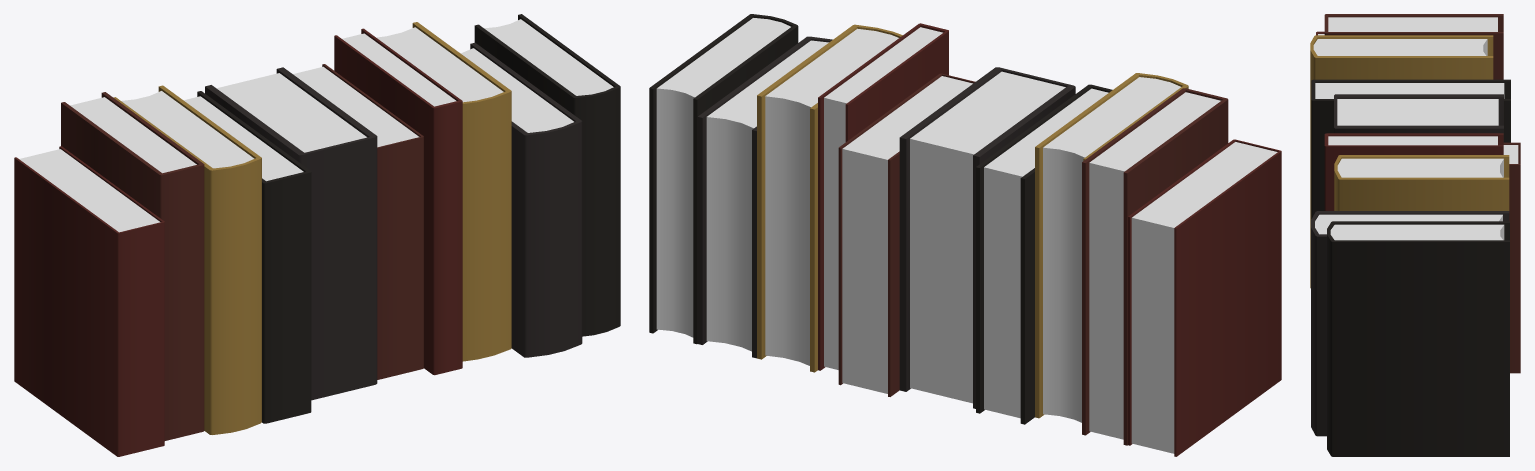
Rendered from 065_books_var1.glb.
The picture shows the model from 3 angles, left to right: view 1: azimuth 30°, elevation 25°; view 2: azimuth 150°, elevation 25°; view 3: azimuth 270°, elevation 25°; orthographic projection. The views are drawn at different scales.
Parts seen in each view (by area): view 1: Plane.001, Plane.011, Plane.003, Plane, Plane.002, Plane.005, Plane.007, Plane.006, Plane.004, Plane.009; view 2: Plane.001, Plane.011, Plane, Plane.005, Plane.009, Plane.006, Plane.003, Plane.004, Plane.002, Plane.007; view 3: Plane.006, Plane.005, Plane.003, Plane.011, Plane.002, Plane.004, Plane.007, Plane, Plane.009.
Boxes of the visible parts, box(x1,y1,x2,y2) form: Plane.001: box(14, 146, 164, 456); Plane.011: box(205, 67, 377, 400); Plane.003: box(113, 85, 261, 434); Plane: box(61, 92, 204, 440); Plane.002: box(461, 42, 582, 357); Plane.005: box(376, 22, 511, 361); Plane.007: box(334, 28, 462, 375); Plane.006: box(474, 14, 620, 336); Plane.004: box(184, 91, 311, 423); Plane.009: box(293, 64, 423, 379); Plane.001: box(1128, 139, 1281, 456); Plane.011: box(899, 67, 1075, 408); Plane: box(1082, 88, 1228, 445); Plane.005: box(757, 24, 902, 372); Plane.009: box(838, 73, 975, 396); Plane.006: box(649, 14, 798, 344); Plane.003: box(1035, 73, 1188, 422); Plane.004: box(976, 84, 1112, 424); Plane.002: box(697, 36, 832, 358); Plane.007: box(818, 23, 948, 370); Plane.006: box(1327, 221, 1509, 456); Plane.005: box(1334, 155, 1509, 210); Plane.003: box(1310, 35, 1493, 288); Plane.011: box(1334, 94, 1503, 142); Plane.002: box(1311, 211, 1509, 436); Plane.004: box(1311, 79, 1510, 219); Plane.007: box(1324, 133, 1503, 210); Plane: box(1324, 14, 1503, 79); Plane.009: box(1503, 142, 1520, 373).
Size of the model in its own units: 1.5 by 0.7474 by 0.595.
